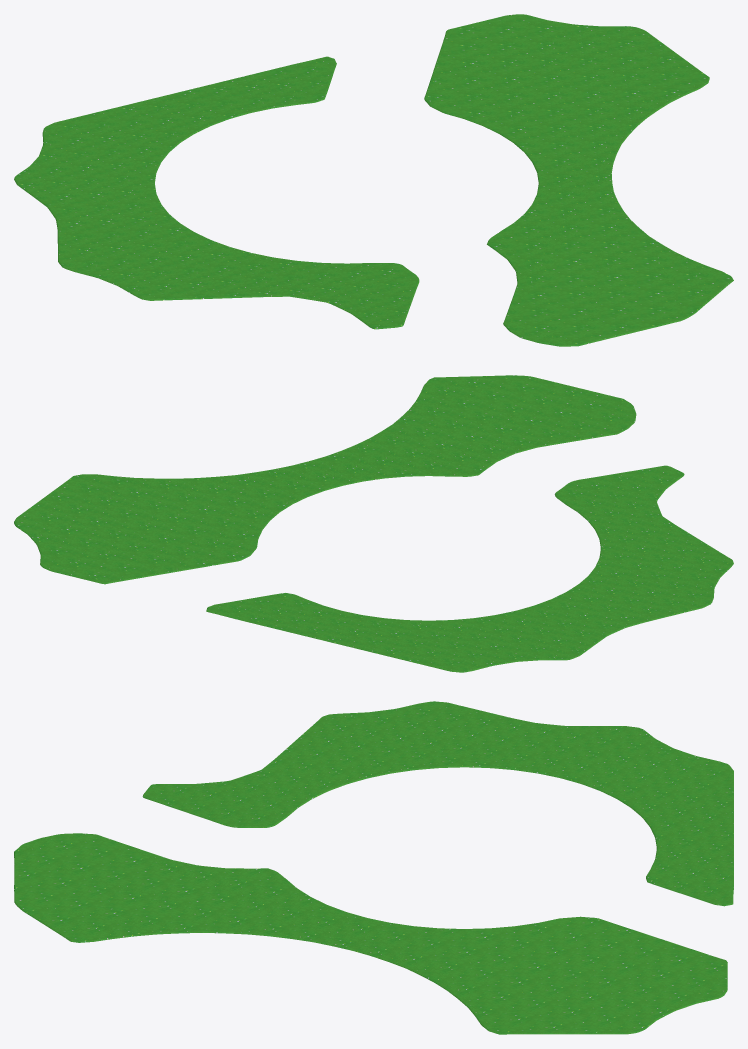
Rendered from obj_ground01.gltf.
The picture shows the model from 3 angles, top to bottom: view 1: azimuth 30°, elevation 25°; view 2: azimuth 150°, elevation 25°; view 3: azimuth 270°, elevation 25°; orthographic projection. The views are drawn at different scales.
Visible parts, largest first — view 1: obj_ground01; view 2: obj_ground01; view 3: obj_ground01.
Part boxes in pixels (x1,y1,x2,y2): obj_ground01: (14,14,733,346); obj_ground01: (14,375,733,672); obj_ground01: (14,701,733,1034).
Size of what is drawn, in the model's own units: 62.97 by 0.1228 by 57.66.
Materials: 1 (1 with a texture image).
